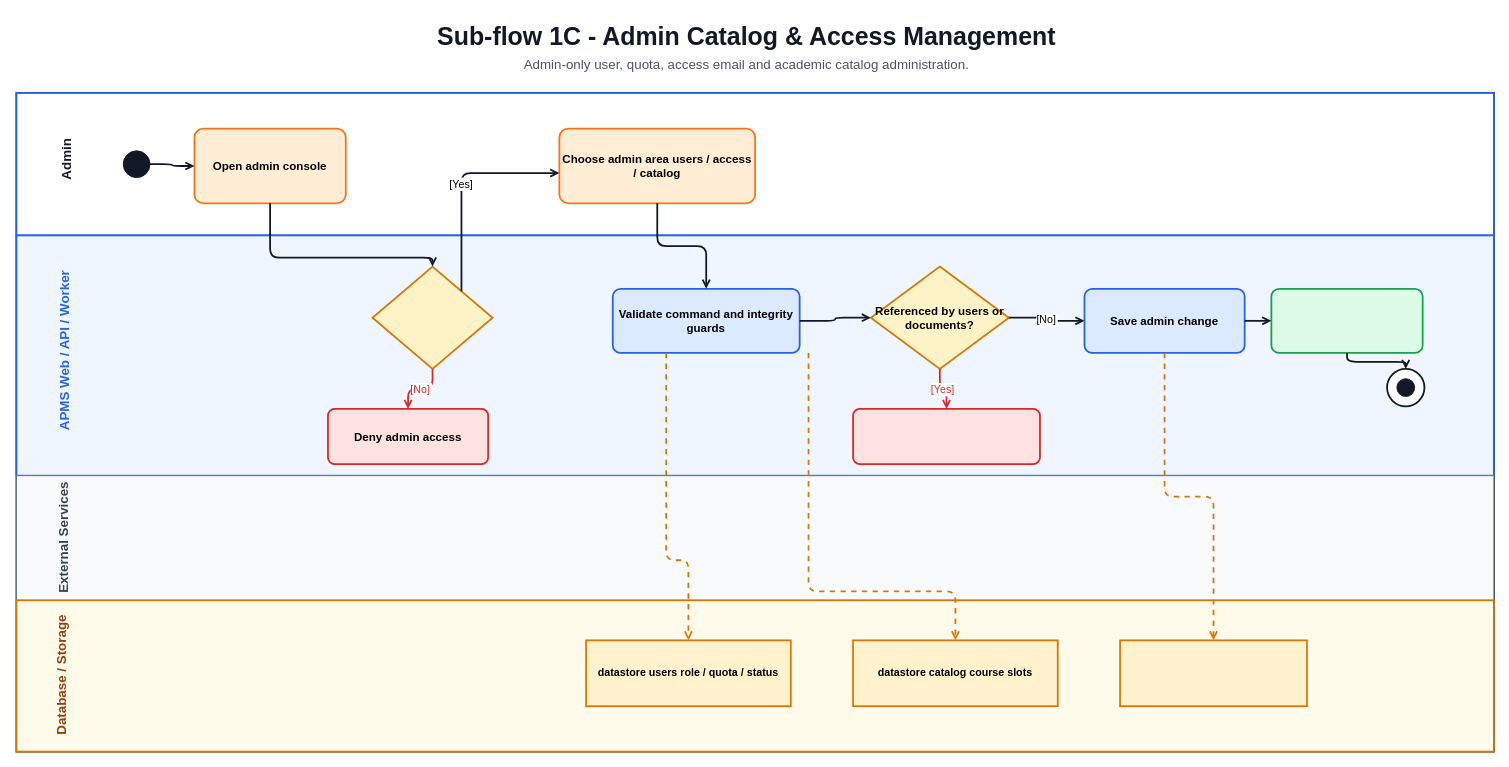
Some shapes in this 1509 by 767 pixel diagram are drawn without their labels. The shapes that lost their labels are listed below. From the top down, each one's centre as x and y in pixels, then its label:
At (432,317): "Has admin role?".
At (1346,320): "Show updated admin data".
At (946,436): "Reject change with conflict reason".
At (1213,673): "datastore access_emails".
